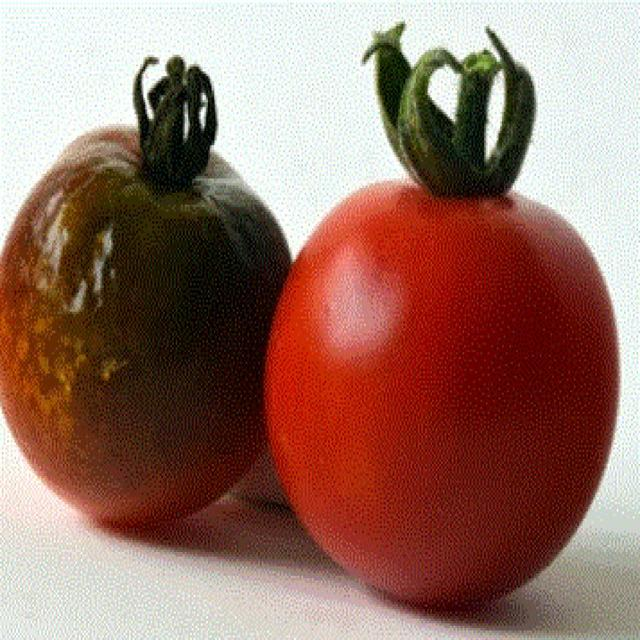Healthy Fruit: (195, 105, 402, 401)
